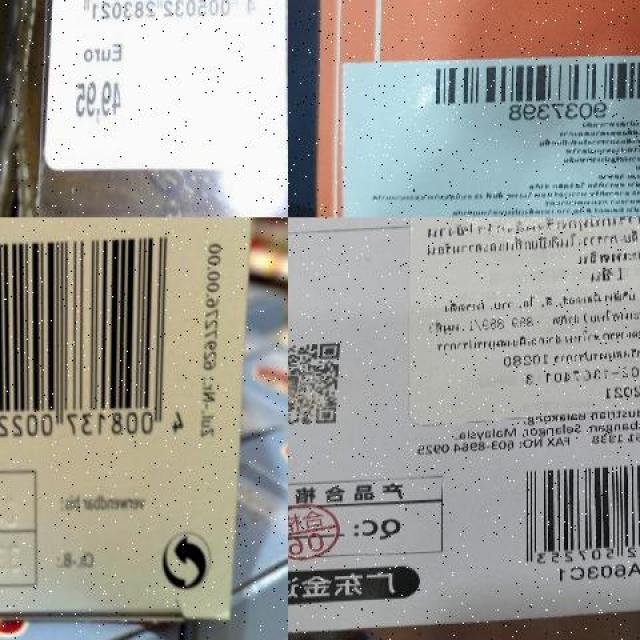Barcode: (0, 220, 197, 468), (417, 52, 640, 131), (508, 456, 640, 571), (57, 0, 279, 44)
